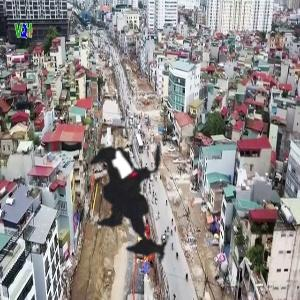drone: (45, 103, 239, 297)
